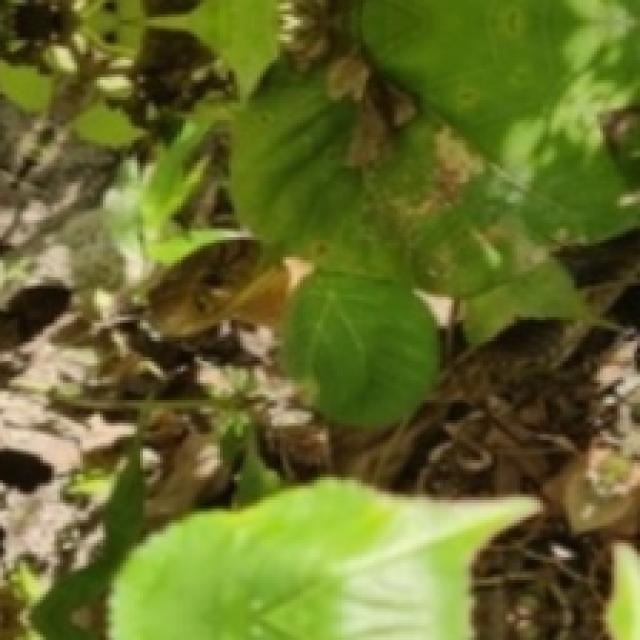king cobra: (150, 240, 305, 347)
